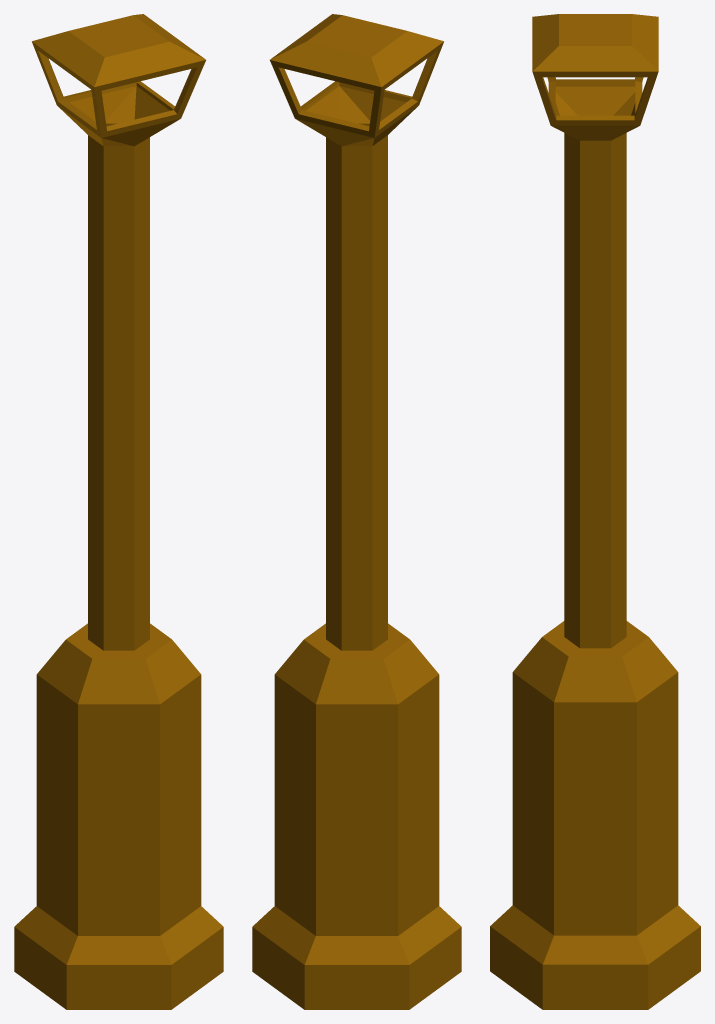
Rendered from StreetLamp2.dae.
3 views of the same model, side by side, from view 1: azimuth 30°, elevation 25°; view 2: azimuth 150°, elevation 25°; view 3: azimuth 270°, elevation 25° (orthographic).
Parts seen in each view (by area): view 1: Cylinder; view 2: Cylinder; view 3: Cylinder.
Boxes of the visible parts, bbox=[...] form: Cylinder: bbox=[14, 14, 223, 1009]; Cylinder: bbox=[252, 14, 461, 1009]; Cylinder: bbox=[490, 14, 700, 1009].
Bounding box in the file's own units: 1.73 × 2 × 9.85.
